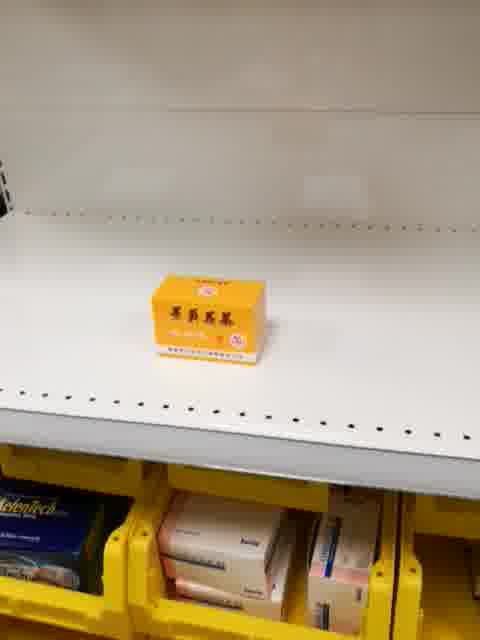jasminetea: (149, 272, 272, 368)
